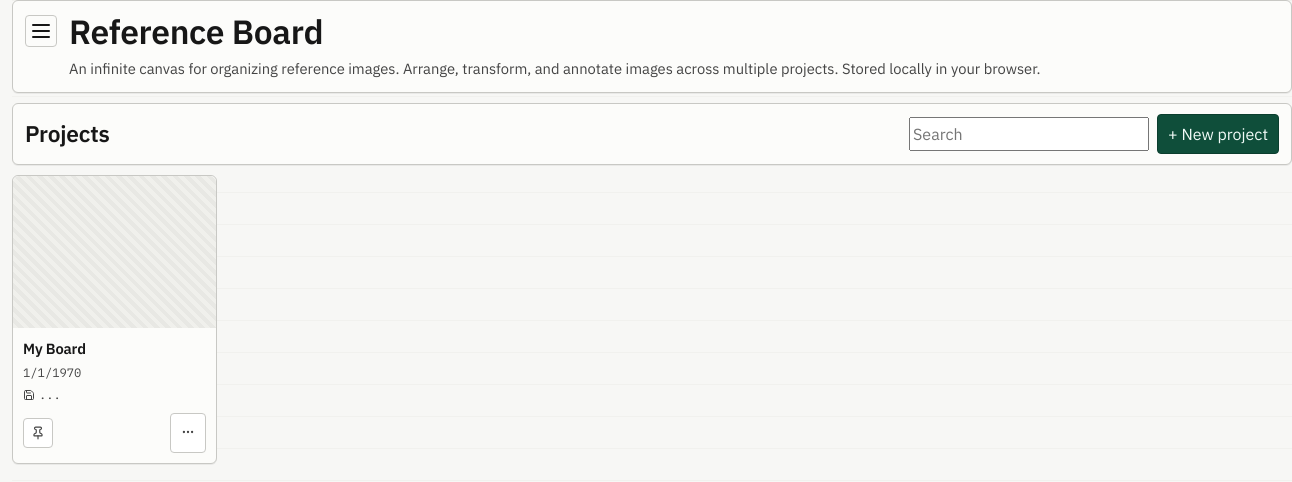
Test case: ReferenceBoardPage › shows duplicate option in options menu
The image size is (1292, 482).
Click the button named "options for my board".
click(188, 432)  # box [170,412,206,452]
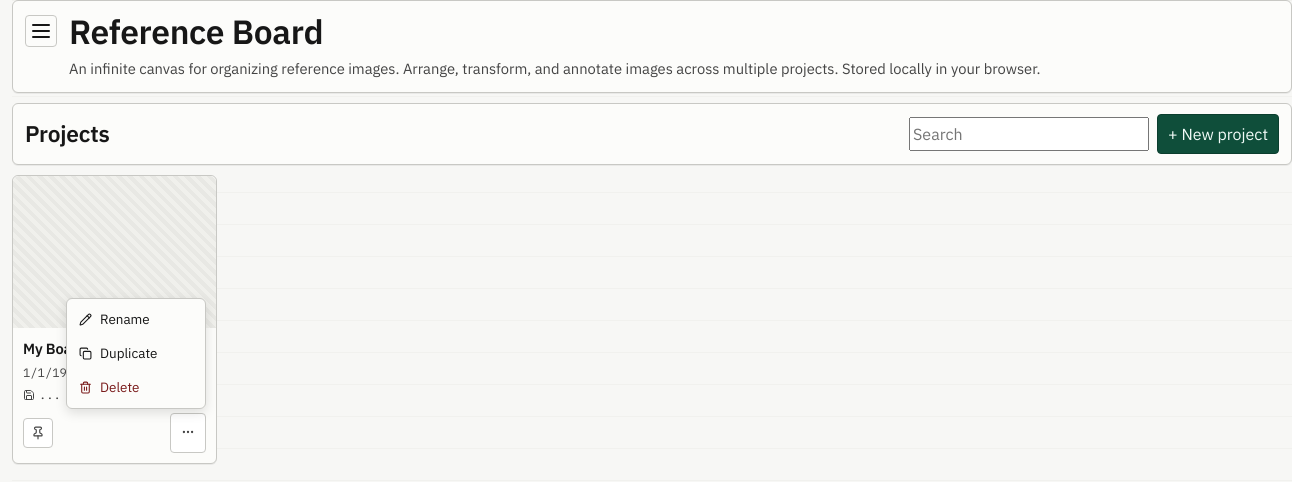
Click the menu item with aria-label "duplicate my board".
click(136, 353)  # box [71,337,201,369]
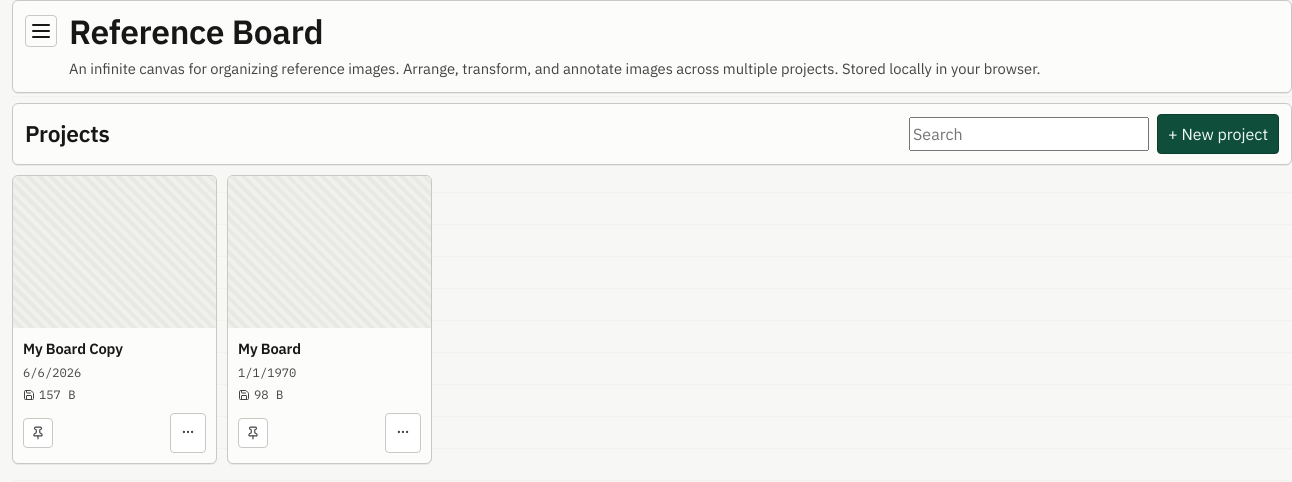
Expected: the heading "My Board Copy" is shown, [23,338,123,360]
